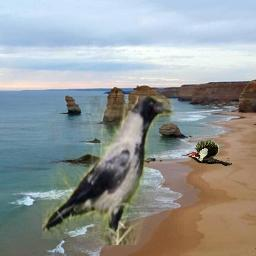Crow: (42, 96, 174, 245)
Woodpecker: (181, 140, 232, 166)
